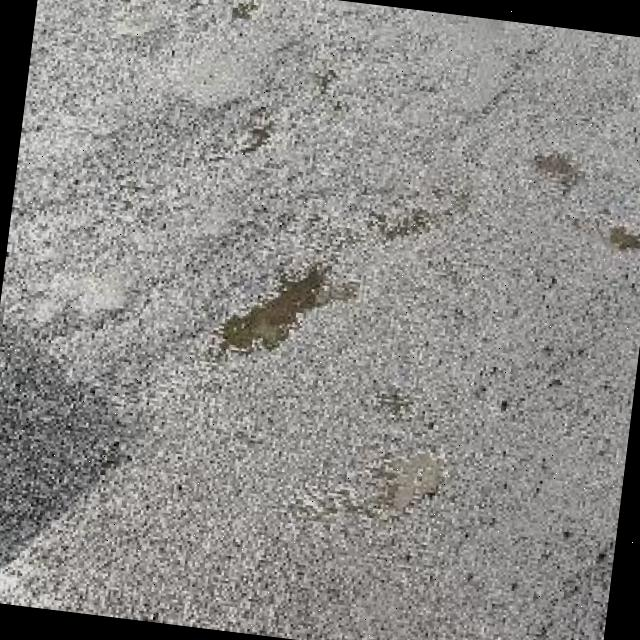stagnation: (220, 248, 340, 366)
